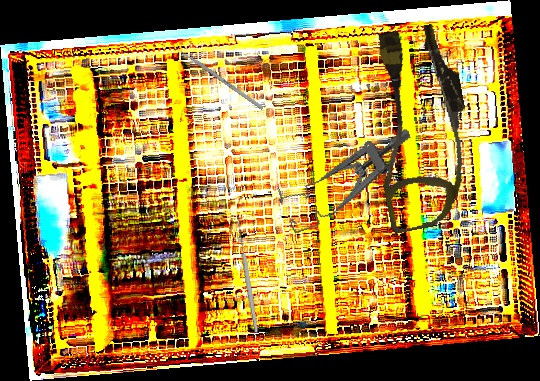Cannula: (354, 20, 487, 235)
Pusher: (169, 41, 264, 111)
Speculum: (270, 127, 429, 235)
Surgical Spoon: (235, 218, 260, 334)
